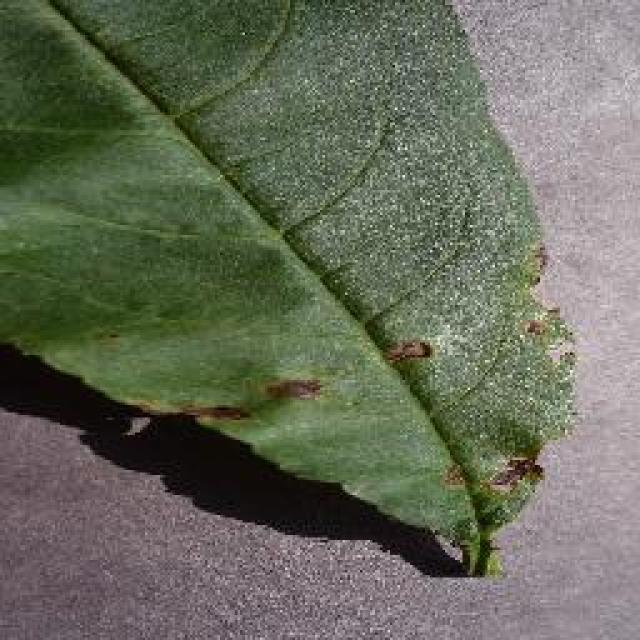Pea_Bacterial_spot: (179, 319, 441, 431), (438, 413, 554, 535)
